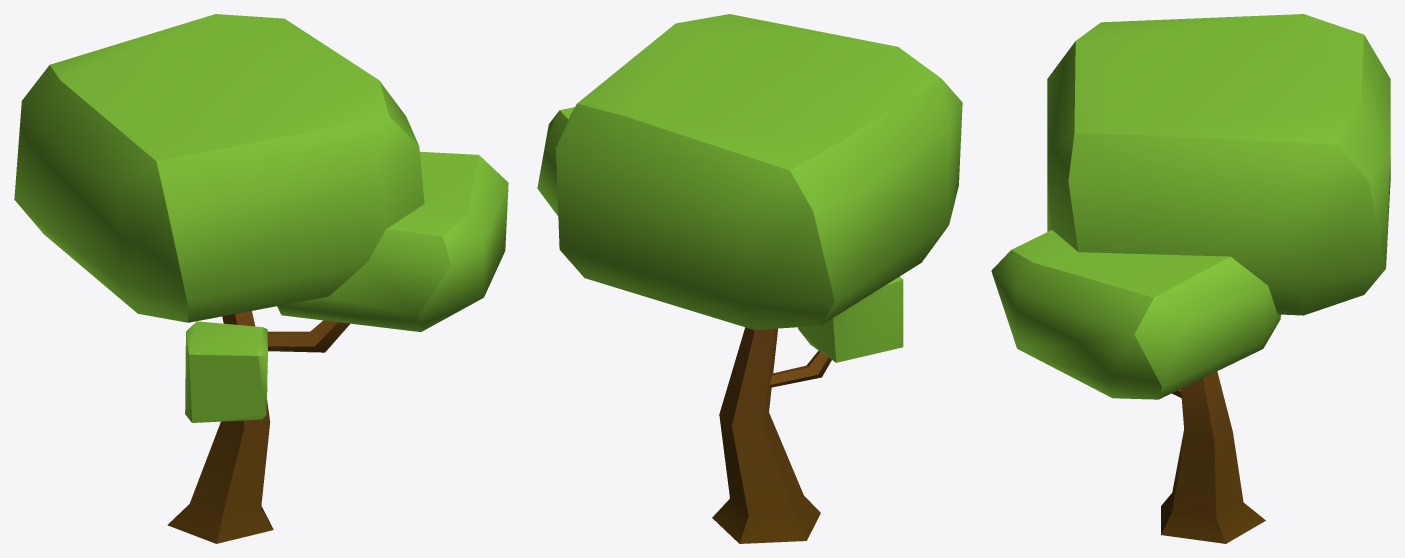
The model's file is Tree_Maple_1.fbx.
3 views of the same model, side by side, from view 1: azimuth 30°, elevation 25°; view 2: azimuth 150°, elevation 25°; view 3: azimuth 270°, elevation 25° (orthographic). The views are drawn at different scales.
Parts seen in each view (by area): view 1: Tree_Maple_1; view 2: Tree_Maple_1; view 3: Tree_Maple_1.
Boxes of the visible parts, x1,y1,x2,y2 form: Tree_Maple_1: (14, 14, 508, 543); Tree_Maple_1: (537, 14, 962, 543); Tree_Maple_1: (991, 14, 1390, 543).
Size of the model in its own units: 2.67 by 2.85 by 2.29.
